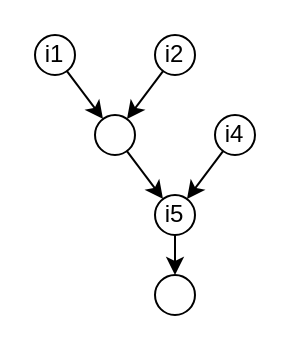
Some shapes in this 290 by 350 pixel diagram are drawn without their labels. Each missing label, with the centre of its shape:
"i3" belongs at [114,134].
"i6" belongs at [174,294].
